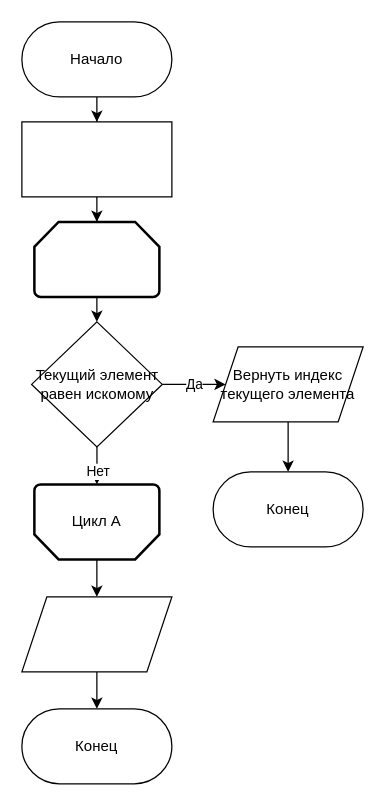
Some shapes in this 385 by 806 pixel diagram are drawn without their labels. Here are the shapes that lost their labels. From the top down, the centre of each, then its label:
(x=96, y=159): Инициализация переменных
(x=96, y=259): Цикл А По элементам массива
(x=96, y=634): Вернуть -1
